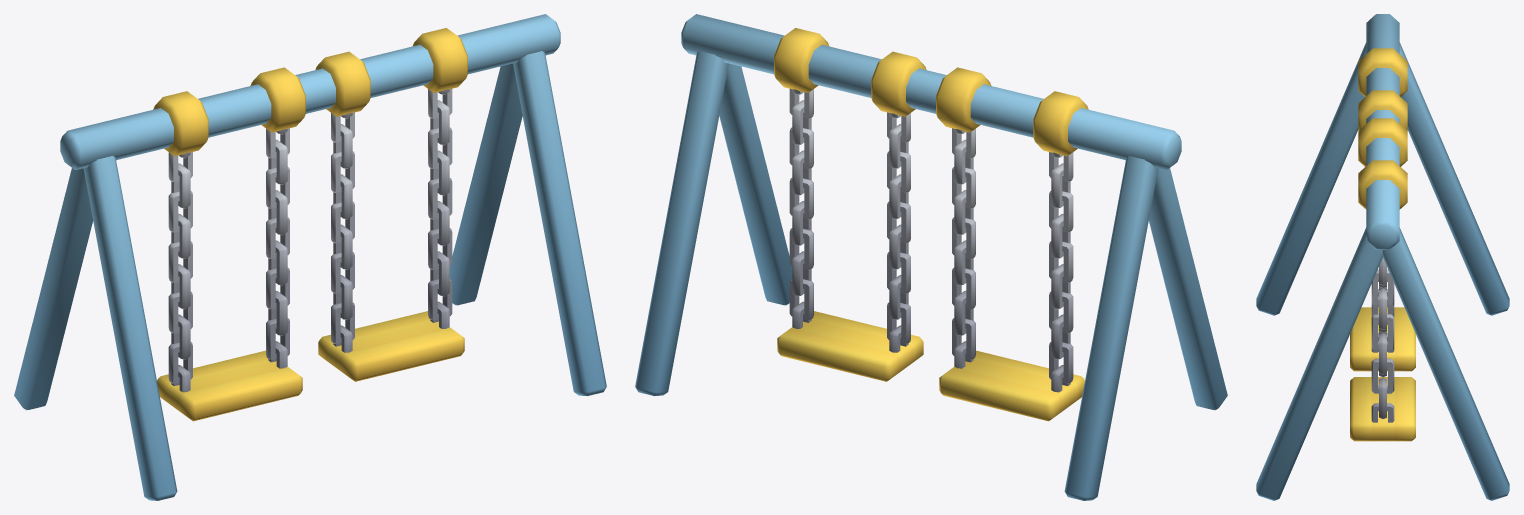
The model's file is swing_A_large.glb.
3 renders of one model, left to right at view 1: azimuth 30°, elevation 25°; view 2: azimuth 150°, elevation 25°; view 3: azimuth 270°, elevation 25°, orthographic. The views are drawn at different scales.
Parts seen in each view (by area): view 1: swing_A_large, swing_A_large_seat_B, swing_A_large_seat_A; view 2: swing_A_large, swing_A_large_seat_B, swing_A_large_seat_A; view 3: swing_A_large, swing_A_large_seat_B, swing_A_large_seat_A.
Boxes of the visible parts, left/top/right/bottom form: swing_A_large: left=14, top=14, right=606, bottom=500; swing_A_large_seat_B: left=318, top=89, right=464, bottom=381; swing_A_large_seat_A: left=157, top=128, right=302, bottom=421; swing_A_large: left=635, top=14, right=1227, bottom=500; swing_A_large_seat_B: left=777, top=89, right=923, bottom=381; swing_A_large_seat_A: left=939, top=128, right=1084, bottom=421; swing_A_large: left=1256, top=14, right=1509, bottom=500; swing_A_large_seat_B: left=1350, top=258, right=1415, bottom=441; swing_A_large_seat_A: left=1350, top=280, right=1415, bottom=371.
Bounding box in the file's own units: 6 × 3.94 × 3.06.
1 material, 1 textured.
